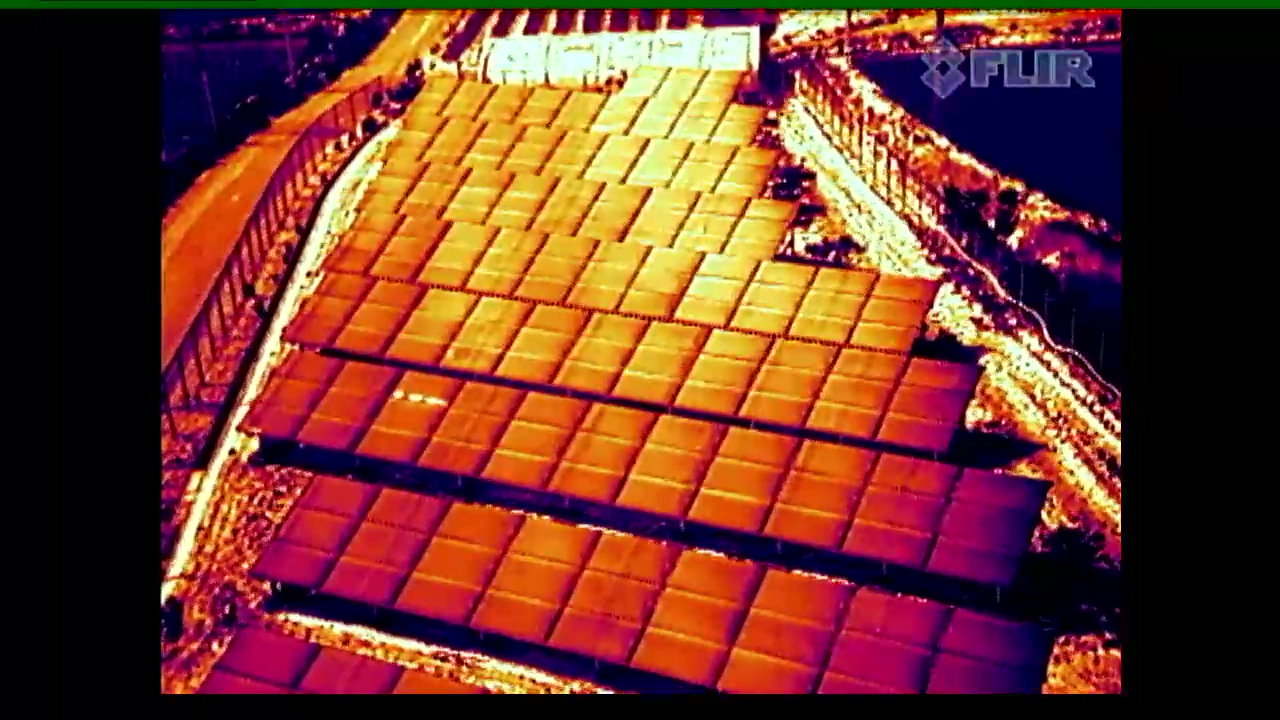hotspot: (355, 369, 463, 477)
